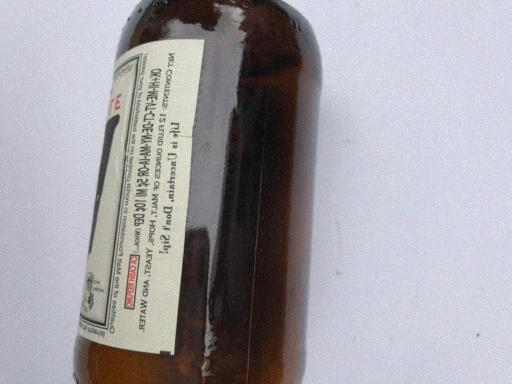glass: (70, 4, 322, 383)
